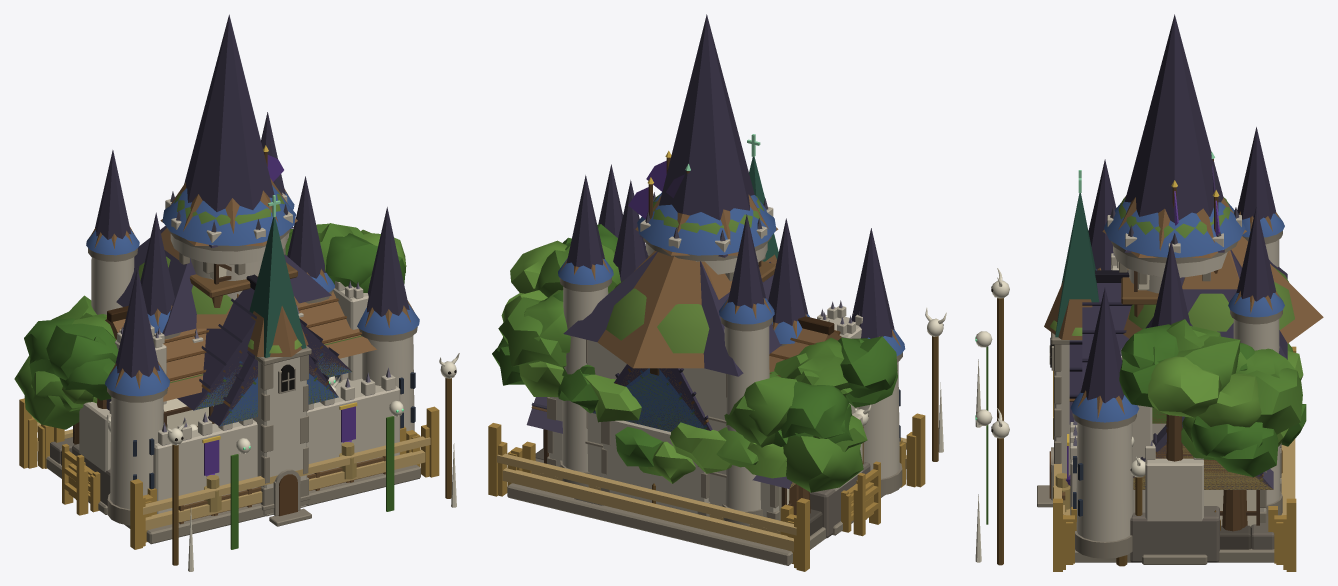
The model's file is city.glb.
The picture shows the model from 3 angles, left to right: view 1: azimuth 30°, elevation 25°; view 2: azimuth 150°, elevation 25°; view 3: azimuth 270°, elevation 25°; orthographic projection. The views are drawn at different scales.
Visible parts, largest first — view 1: b_menschen_zitadelle, b_totenreich_zitadelle, b_waldvolk_zitadelle, b_menschen_kapelle, b_totenreich_wachturm, b_menschen_wachturm, city_site_mauer, b_orks_kaserne, b_totenreich_schmiede, b_totenreich_kapelle, b_totenreich_mauer, b_orks_zitadelle (+16 smaller); view 2: b_menschen_zitadelle, b_waldvolk_zitadelle, b_totenreich_zitadelle, b_waldvolk_kaserne, b_totenreich_wachturm, city_site_mauer, b_orks_zitadelle, b_waldvolk_kapelle, b_waldvolk_reiterei, b_menschen_kapelle, b_menschen_wachturm, city_site_kaserne (+12 smaller); view 3: b_menschen_zitadelle, b_waldvolk_zitadelle, b_totenreich_zitadelle, b_totenreich_wachturm, b_menschen_wachturm, b_waldvolk_kaserne, city_site_mauer, b_orks_zitadelle, b_waldvolk_reiterei, b_menschen_mauer, b_totenreich_kapelle, b_menschen_kapelle (+14 smaller).
Part boxes in pixels (bbox=[...]): b_menschen_zitadelle: bbox=[37, 191, 420, 544]; b_totenreich_zitadelle: bbox=[95, 112, 456, 571]; b_waldvolk_zitadelle: bbox=[46, 223, 406, 549]; b_menschen_kapelle: bbox=[220, 346, 338, 526]; b_totenreich_wachturm: bbox=[170, 14, 288, 232]; b_menschen_wachturm: bbox=[162, 145, 295, 300]; city_site_mauer: bbox=[19, 398, 439, 549]; b_orks_kaserne: bbox=[105, 291, 376, 401]; b_totenreich_schmiede: bbox=[177, 274, 351, 430]; b_totenreich_kapelle: bbox=[208, 195, 338, 426]; b_totenreich_mauer: bbox=[140, 176, 326, 338]; b_orks_zitadelle: bbox=[89, 189, 459, 565]; b_menschen_zitadelle: bbox=[507, 258, 906, 565]; b_waldvolk_zitadelle: bbox=[510, 224, 897, 407]; b_totenreich_zitadelle: bbox=[563, 164, 943, 452]; b_waldvolk_kaserne: bbox=[498, 290, 852, 515]; b_totenreich_wachturm: bbox=[645, 14, 768, 241]; city_site_mauer: bbox=[488, 413, 925, 571]; b_orks_zitadelle: bbox=[561, 251, 946, 461]; b_waldvolk_kapelle: bbox=[558, 364, 758, 473]; b_waldvolk_reiterei: bbox=[492, 336, 867, 513]; b_menschen_kapelle: bbox=[593, 368, 710, 516]; b_menschen_wachturm: bbox=[637, 150, 776, 281]; city_site_kaserne: bbox=[498, 432, 916, 546]; b_menschen_zitadelle: bbox=[1066, 213, 1284, 562]; b_waldvolk_zitadelle: bbox=[986, 266, 1294, 524]; b_totenreich_zitadelle: bbox=[975, 127, 1287, 562]; b_totenreich_wachturm: bbox=[1110, 14, 1239, 244]; b_menschen_wachturm: bbox=[1104, 180, 1245, 293]; b_waldvolk_kaserne: bbox=[1152, 343, 1302, 527]; city_site_mauer: bbox=[1053, 346, 1296, 571]; b_orks_zitadelle: bbox=[991, 211, 1323, 565]; b_waldvolk_reiterei: bbox=[1133, 416, 1288, 531]; b_menschen_mauer: bbox=[1142, 442, 1207, 564]; b_totenreich_kapelle: bbox=[1055, 170, 1099, 424]; b_menschen_kapelle: bbox=[1037, 332, 1281, 507].
Bounding box in the file's own units: 2.5 × 3.15 × 2.02.
